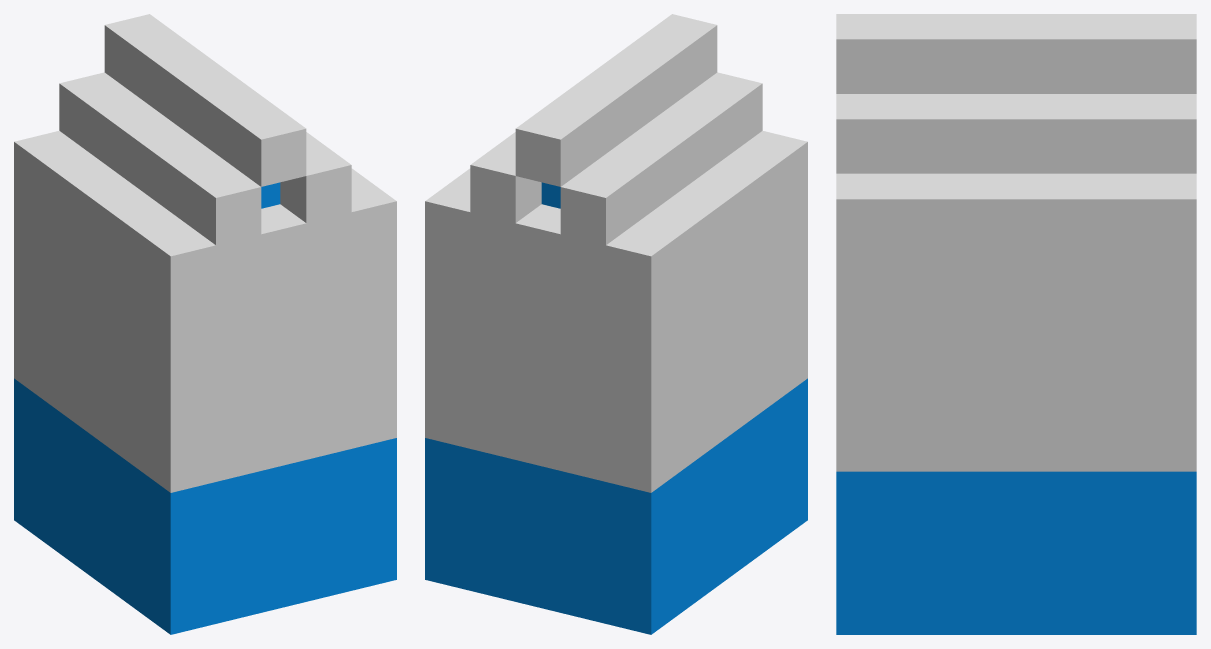
Rendered from milk.obj.
The picture shows the model from 3 angles, left to right: view 1: azimuth 30°, elevation 25°; view 2: azimuth 150°, elevation 25°; view 3: azimuth 270°, elevation 25°; orthographic projection. The views are drawn at different scales.
Bounding box in the file's own units: 5 × 10 × 6.
1 material, 1 textured.
